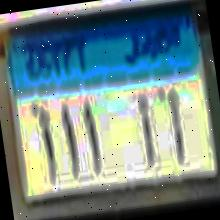1: (80, 102, 106, 182), (37, 110, 62, 186), (59, 106, 84, 180)
alif: (162, 88, 188, 166), (134, 92, 160, 170)
